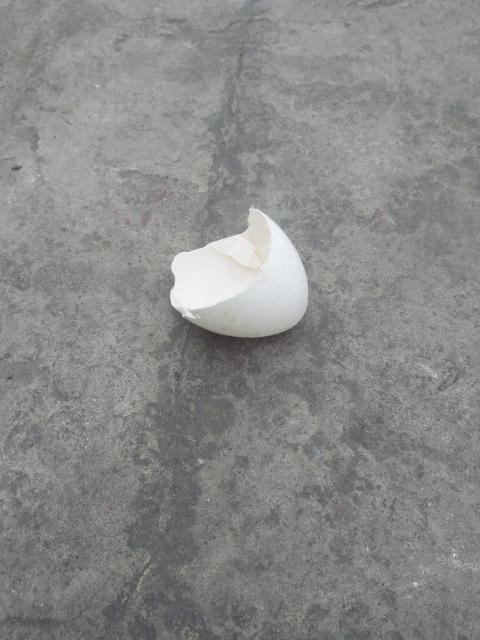Roto: (168, 205, 309, 338)
